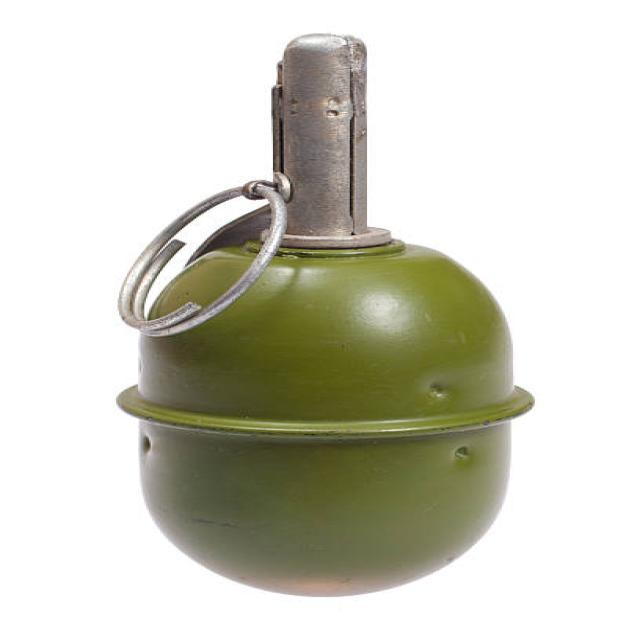grenade: (115, 23, 539, 601)
